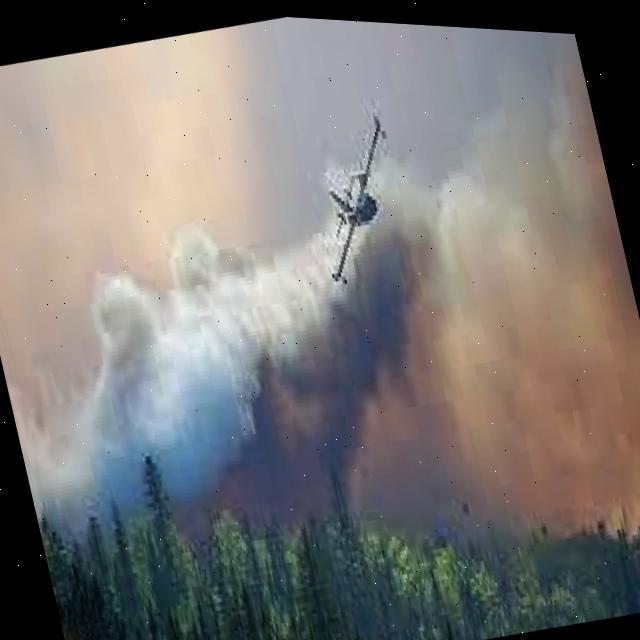smoke: (35, 32, 640, 535)
